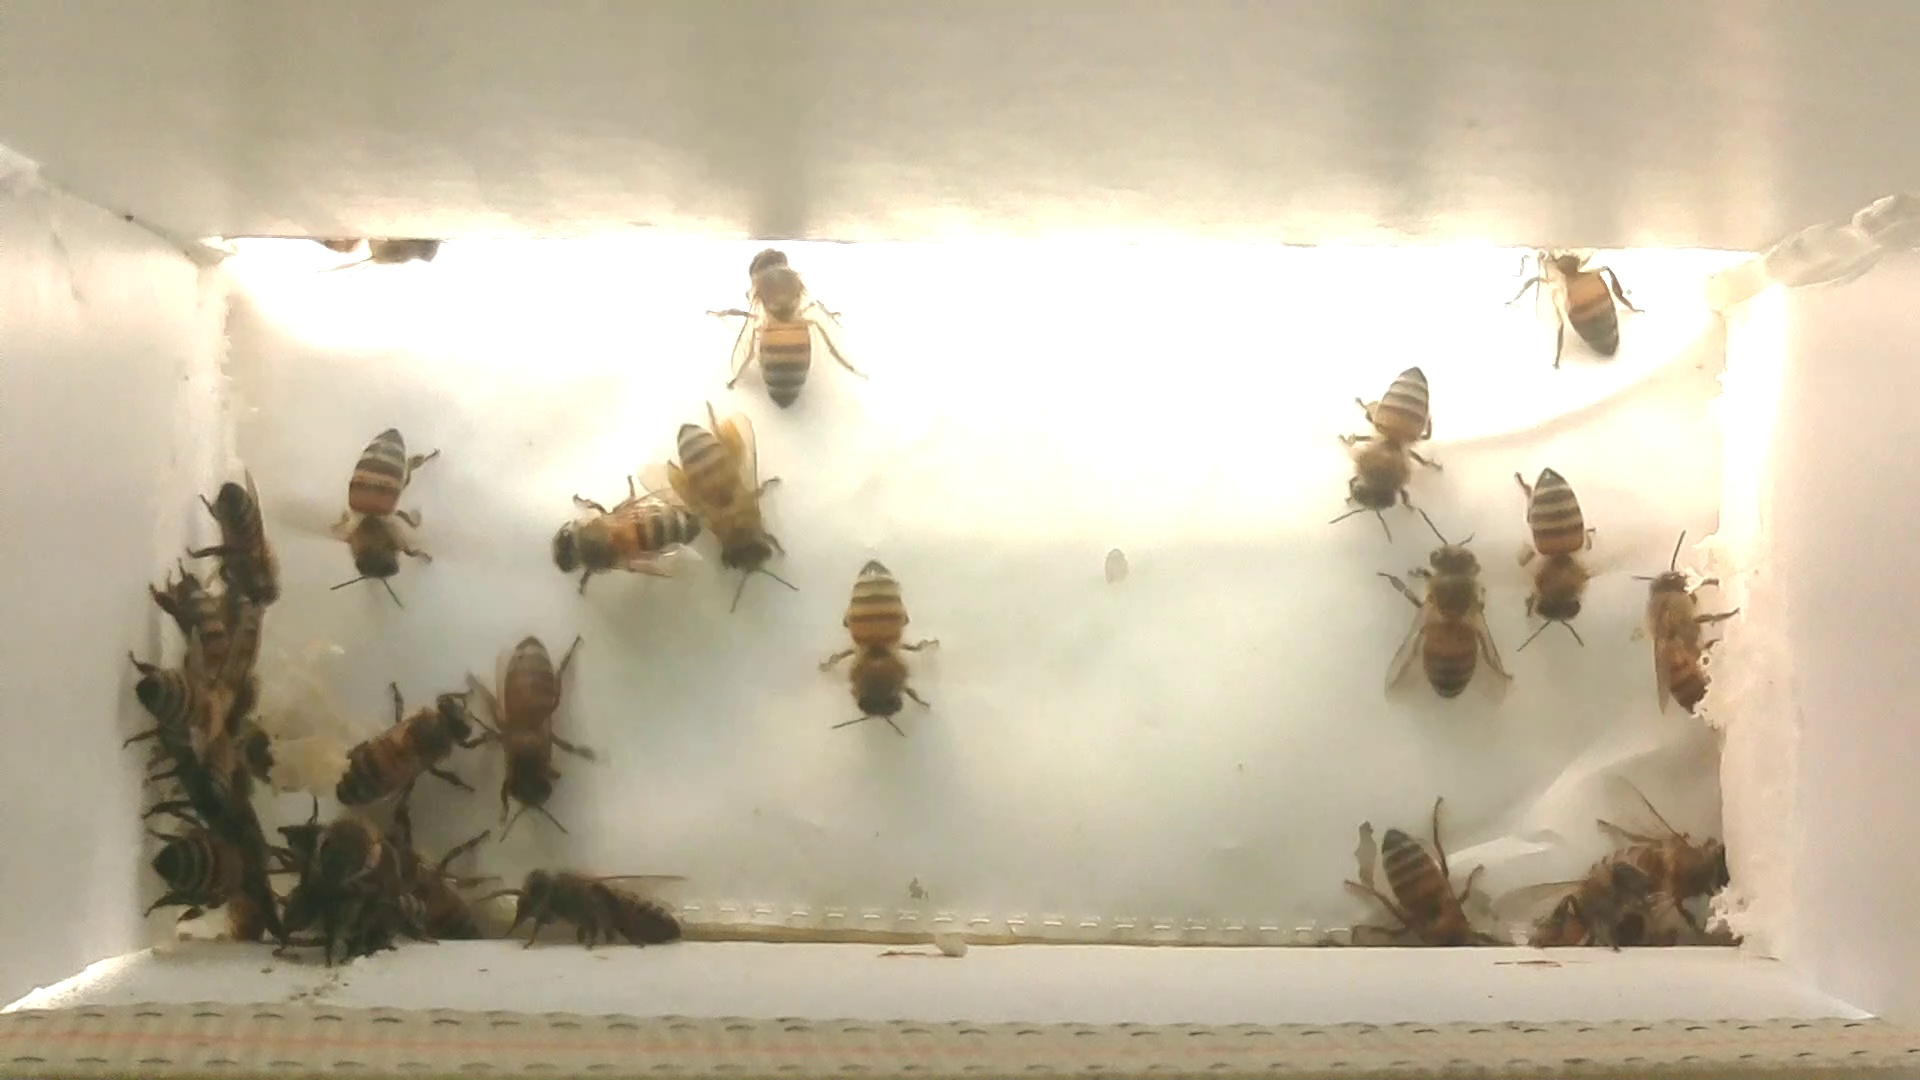bee: (794, 541, 973, 753), (647, 413, 824, 618), (289, 407, 462, 615), (1369, 487, 1523, 715), (458, 628, 611, 845), (313, 665, 498, 837), (1309, 339, 1458, 551), (704, 235, 866, 425), (1613, 518, 1749, 738), (1323, 785, 1497, 948), (1489, 448, 1611, 666), (483, 855, 703, 961), (553, 477, 717, 613), (169, 451, 291, 625), (1502, 231, 1644, 375), (1581, 811, 1764, 918), (124, 803, 262, 926), (111, 649, 253, 766), (295, 818, 429, 943), (1501, 856, 1651, 967), (148, 575, 256, 698), (322, 222, 458, 289)
